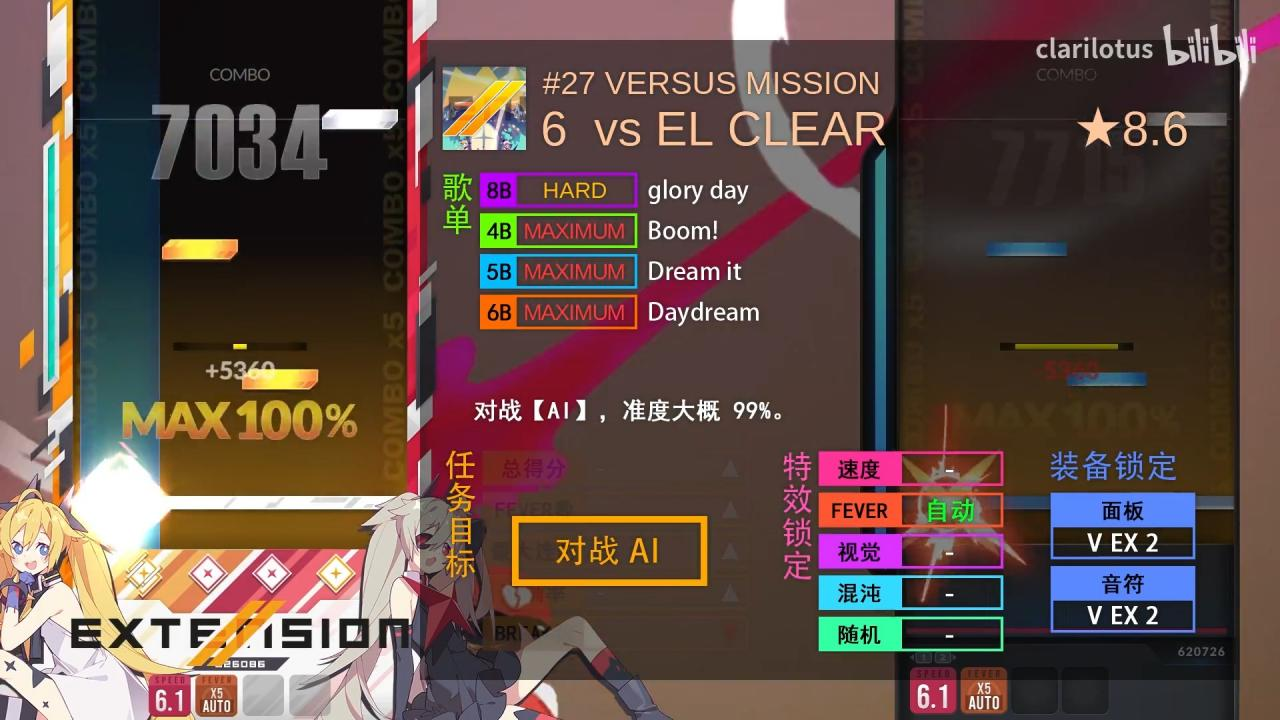note: (321, 108, 399, 130), (242, 369, 318, 391), (162, 239, 238, 260)
